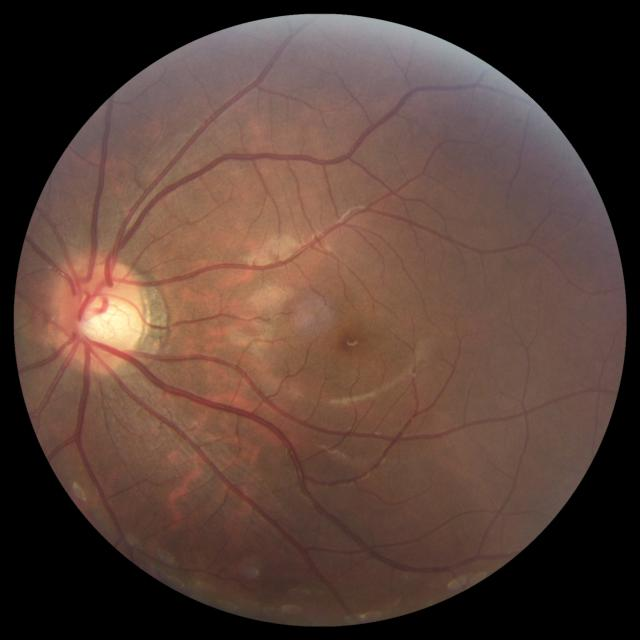OC: (73, 286, 137, 347)
OD: (48, 255, 149, 371)
